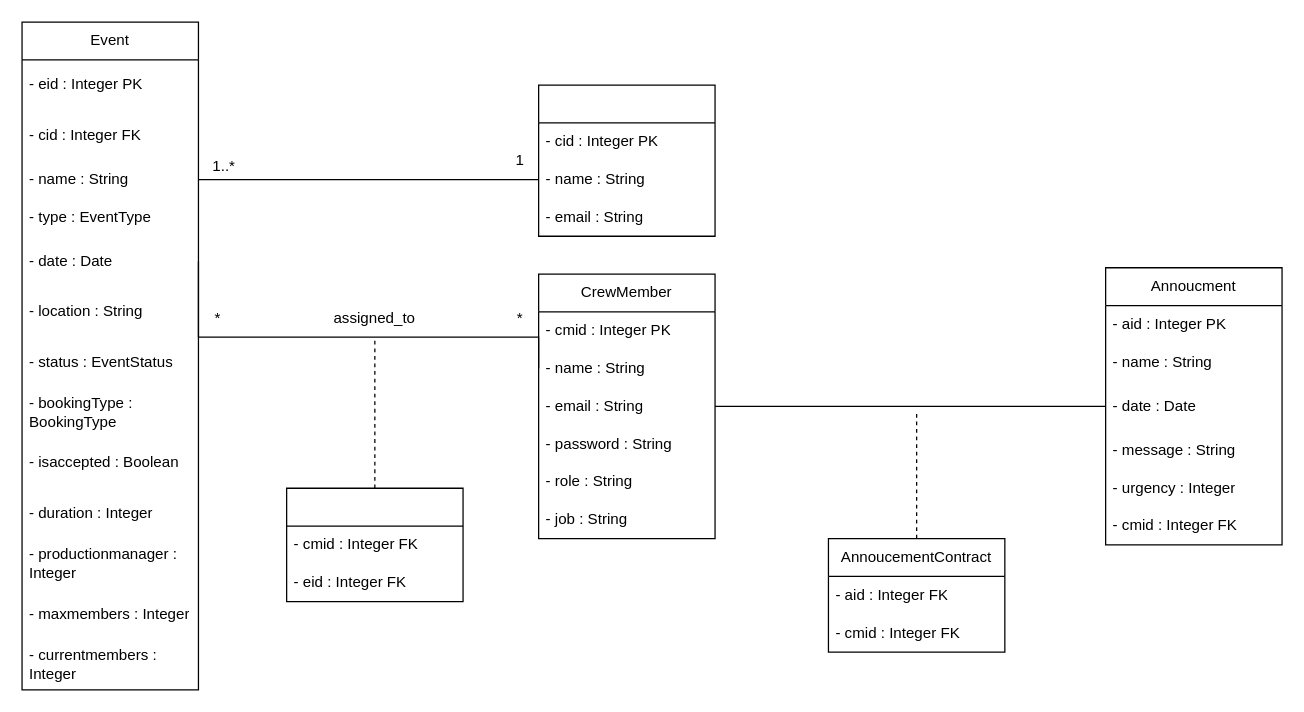
This 1304x712 diagram has some shape labels left out. The shapes that lost their labels are listed below. From the top down, each one's box as (x1, y1, x2, y2) in pixels, then its label:
(537, 84, 715, 236): Client
(285, 487, 463, 602): Contract
